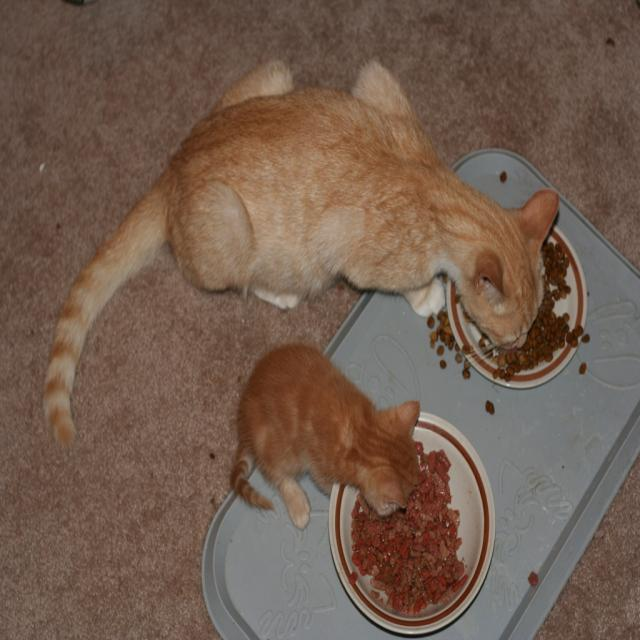Cat: (42, 52, 560, 449), (231, 344, 420, 533)
